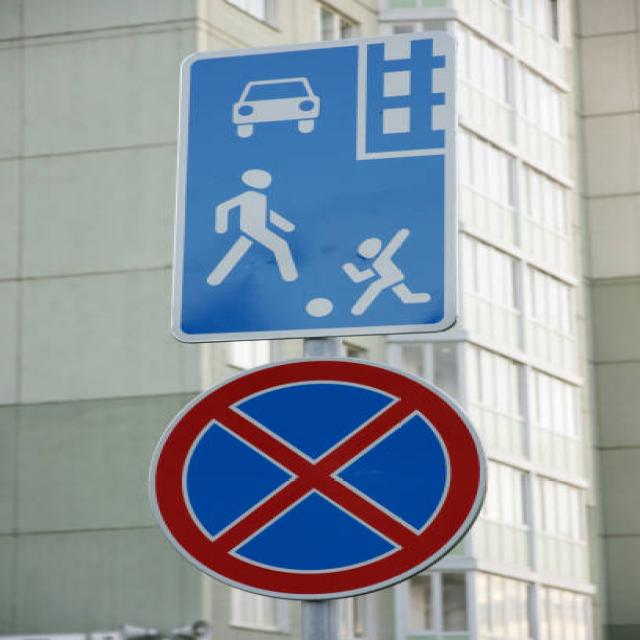no_parking: (142, 354, 488, 602)
